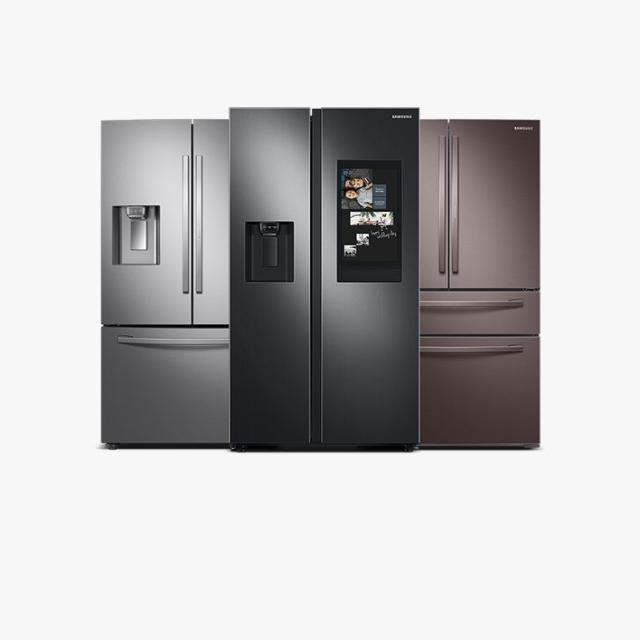obstacle: (230, 109, 414, 450), (98, 119, 232, 444), (418, 117, 540, 449)
